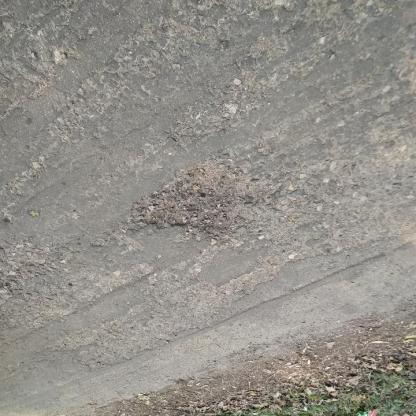pothole: (131, 160, 282, 238)
